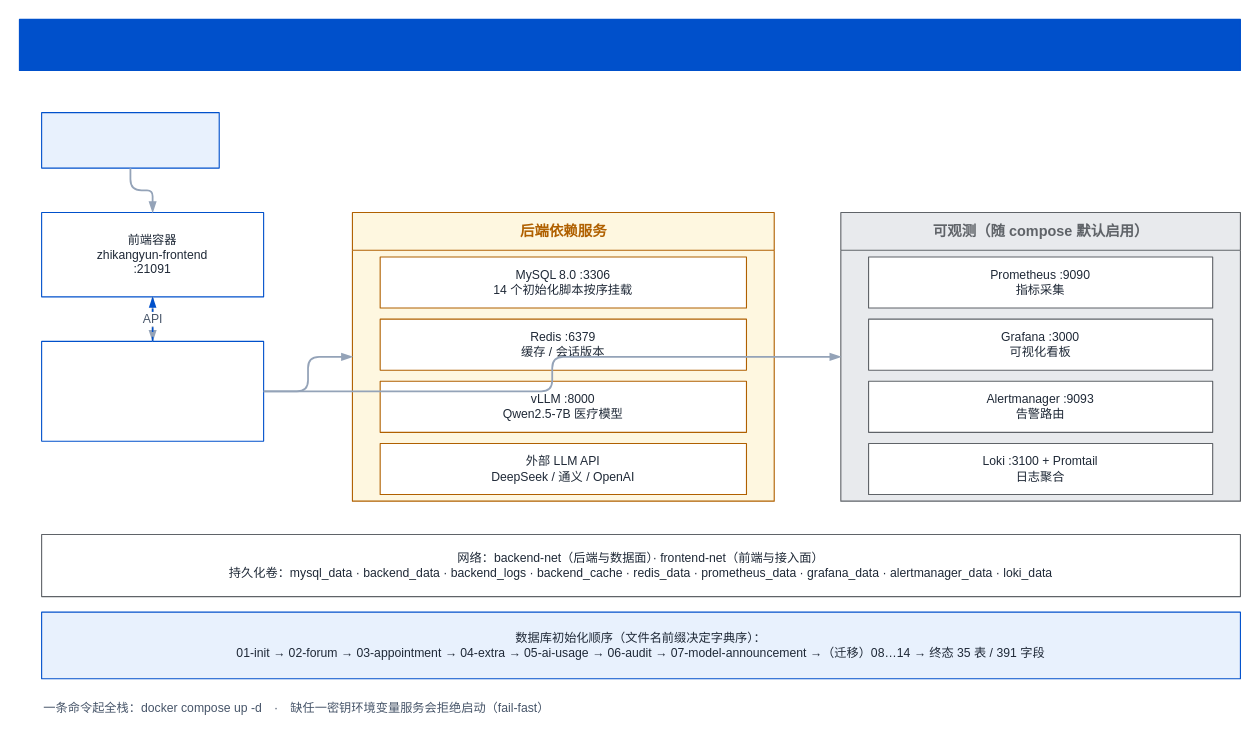
This 1260x740 diagram has some shape labels left out. The centre of each missing label's shape, as x and y in pixels:
后端容器 zhikangyun-backend :21090 · Spring Boot 3: the point at 152,390
浏览器: the point at 130,140
部署拓扑与可观测: the point at 629,44
